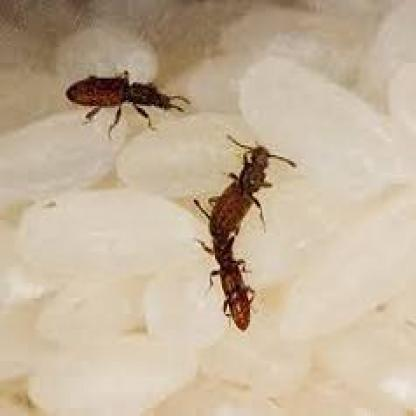rice-bug: (206, 146, 298, 334), (64, 71, 179, 115)
